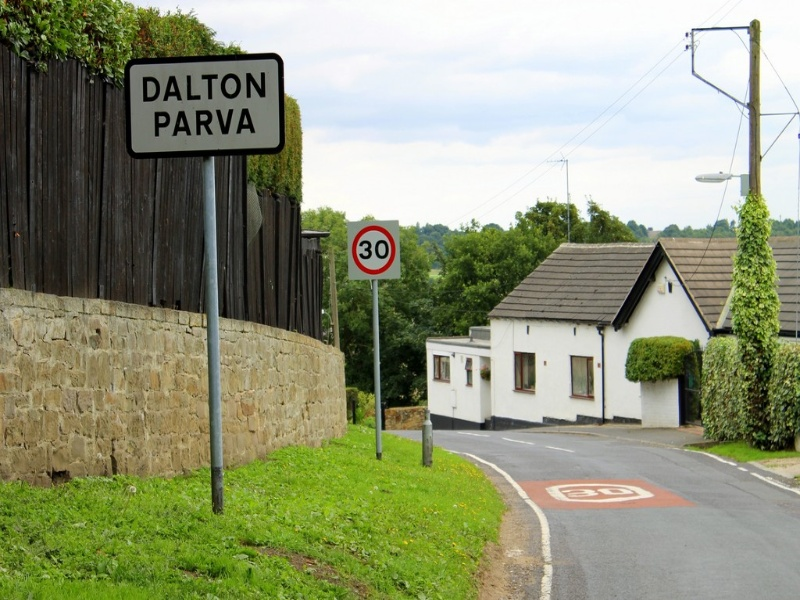speed_limit_30: (348, 224, 406, 290)
